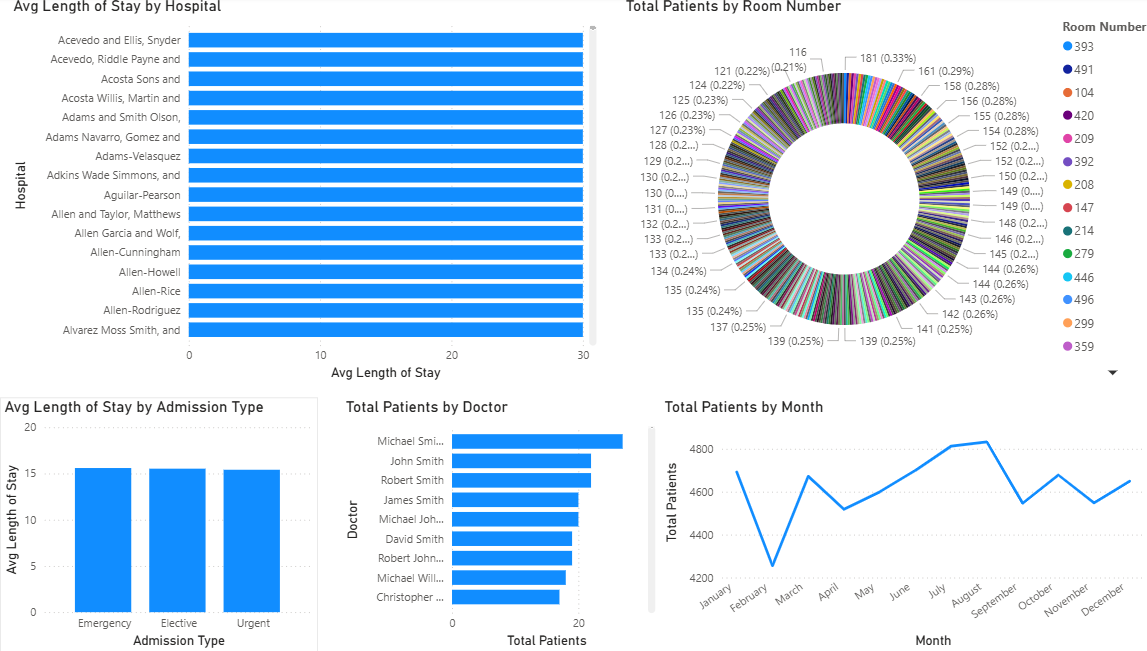

What the dashboard file says about the page in this screenshot:
{"tool":"powerbi","page":{"name":"Operational Efficiency","canvas":[1280,720],"ordinal":3},"visuals":[{"type":"clusteredBarChart","fields":{"Category":["healthcare_dataset (2).Hospital"],"Y":["healthcare_dataset (2).Avg Length of Stay"]},"box":[9.6,0,650.4,426.8],"z":0},{"type":"clusteredColumnChart","fields":{"Category":["healthcare_dataset (2).Admission Type"],"Y":["healthcare_dataset (2).Avg Length of Stay"]},"box":[0,440.5,348.5,279.9],"z":1000},{"type":"barChart","fields":{"Category":["healthcare_dataset (2).Doctor"],"Y":["healthcare_dataset (2).Total Patients"]},"box":[374.6,440.5,349.9,279.9],"z":1001},{"type":"lineChart","fields":{"Category":["healthcare_dataset (2).Date of Admission.Variation.Date Hierarchy.Month"],"Y":["healthcare_dataset (2).Total Patients"]},"box":[724.5,440.5,536.5,279.9],"z":1002},{"type":"donutChart","fields":{"Y":["healthcare_dataset (2).Total Patients"],"Category":["healthcare_dataset (2).Room Number"]},"box":[682,0,598.3,426.8],"z":1003}]}

Visuals, with their boxes in screenshot pixels (x1, y1, x2, y2), scaled from the page's 1280x720 canvas onto the 1147x651 screenshot:
clusteredBarChart - healthcare_dataset (2).Hospital x healthcare_dataset (2).Avg Length of Stay: <box>9,0,591,386</box>
clusteredColumnChart - healthcare_dataset (2).Admission Type x healthcare_dataset (2).Avg Length of Stay: <box>0,398,312,650</box>
barChart - healthcare_dataset (2).Doctor x healthcare_dataset (2).Total Patients: <box>336,398,649,650</box>
lineChart - healthcare_dataset (2).Date of Admission.Variation.Date Hierarchy.Month x healthcare_dataset (2).Total Patients: <box>649,398,1130,650</box>
donutChart - healthcare_dataset (2).Total Patients x healthcare_dataset (2).Room Number: <box>611,0,1146,386</box>
